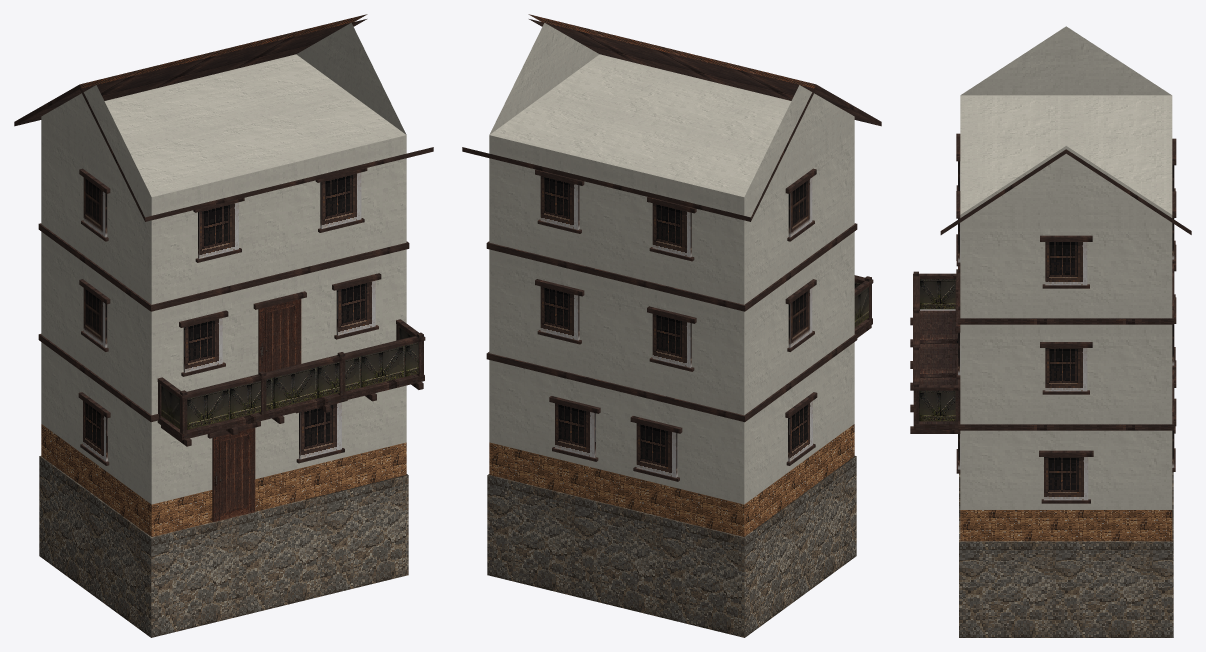
Rendered from 17_andina3p_blanco_humo_balcon.glb.
3 views of the same model, side by side, from view 1: azimuth 30°, elevation 25°; view 2: azimuth 150°, elevation 25°; view 3: azimuth 270°, elevation 25° (orthographic). The views are drawn at different scales.
Parts seen in each view (by area): view 1: 17_andina3p_blanco_humo_balcon; view 2: 17_andina3p_blanco_humo_balcon; view 3: 17_andina3p_blanco_humo_balcon.
Boxes of the visible parts, box(x1,y1,x2,y2) form: 17_andina3p_blanco_humo_balcon: box(14, 14, 433, 637); 17_andina3p_blanco_humo_balcon: box(462, 14, 881, 637); 17_andina3p_blanco_humo_balcon: box(910, 26, 1191, 637).
Bounding box in the file's own units: 7.24 × 12.39 × 6.37.
Materials: 8 (8 with a texture image).
